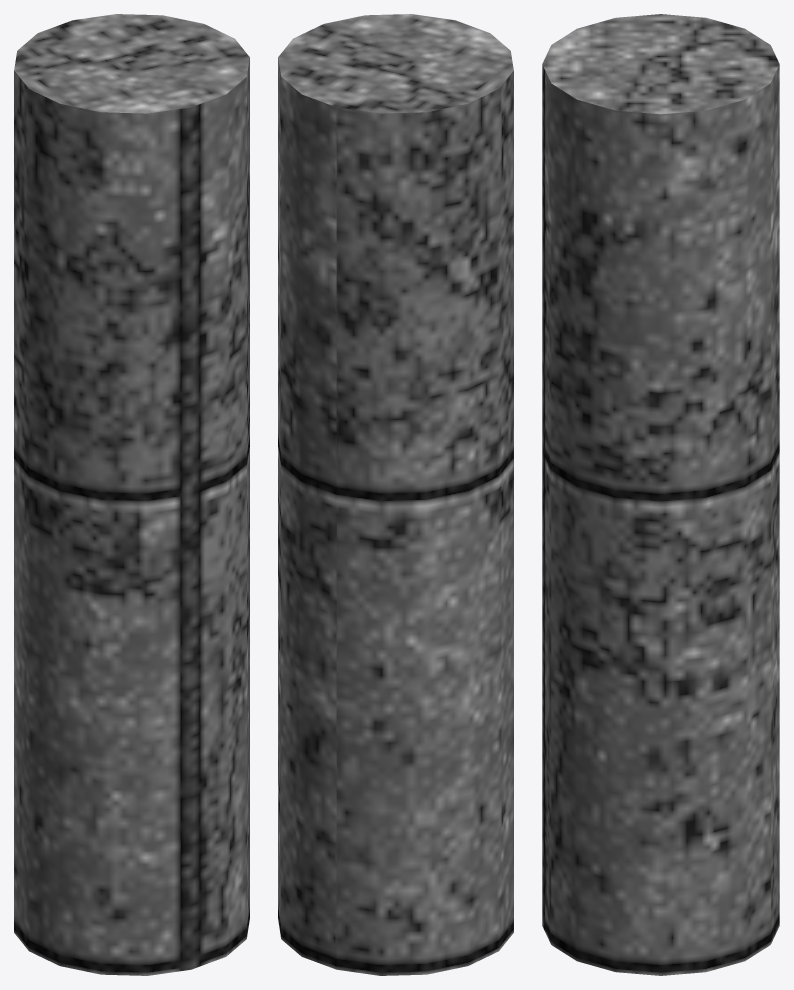
The model's file is Pillar.fbx.
The picture shows the model from 3 angles, left to right: view 1: azimuth 30°, elevation 25°; view 2: azimuth 150°, elevation 25°; view 3: azimuth 270°, elevation 25°; orthographic projection.
Visible parts, largest first — view 1: Cylinder.001; view 2: Cylinder.001; view 3: Cylinder.001.
Part boxes in pixels (<box>): Cylinder.001: <box>14,14,249,975</box>; Cylinder.001: <box>278,14,513,975</box>; Cylinder.001: <box>542,14,779,975</box>.
Bounding box in the file's own units: 99.93 × 400 × 99.93.
